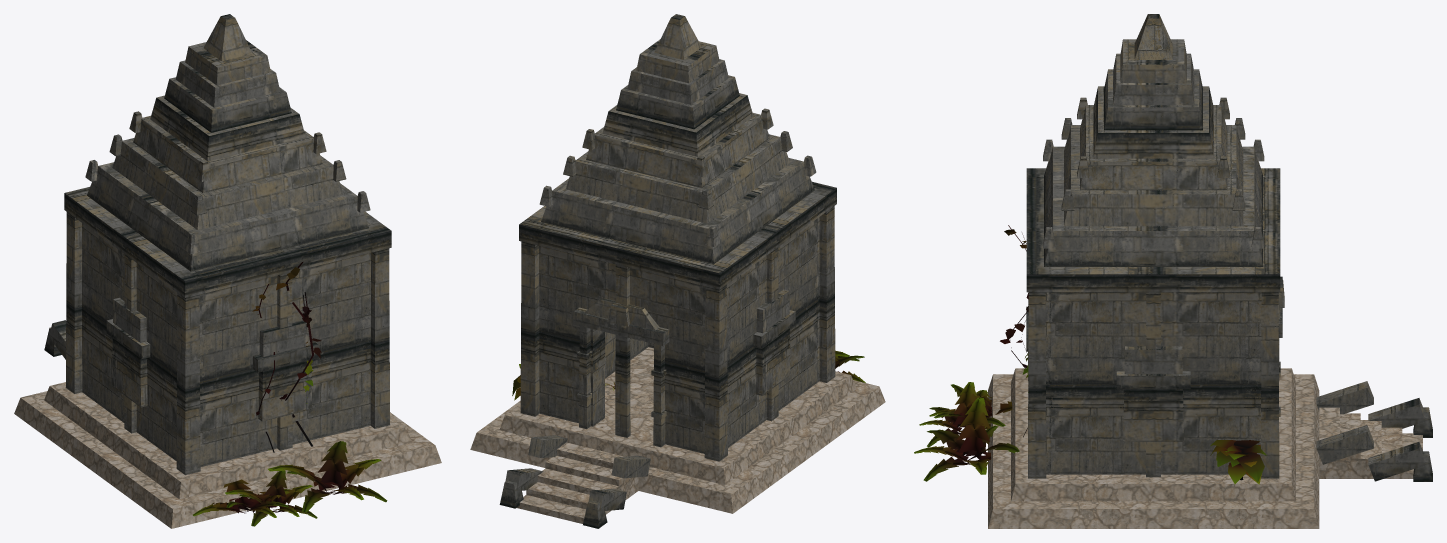
The model's file is prasat_intact_01.glb.
3 renders of one model, left to right at view 1: azimuth 30°, elevation 25°; view 2: azimuth 150°, elevation 25°; view 3: azimuth 270°, elevation 25°, orthographic. The views are drawn at different scales.
Visible parts, largest first — view 1: prasat_intact_01, prasat_intact_01_veg_04_fern_a, prasat_intact_01_veg_05_fern_a, prasat_intact_01_veg_06_fern_b, prasat_intact_01_veg_01_trunk_vine_a; view 2: prasat_intact_01; view 3: prasat_intact_01, prasat_intact_01_veg_04_fern_a, prasat_intact_01_veg_08_bush_a, prasat_intact_01_veg_05_fern_a, prasat_intact_01_veg_06_fern_b.
Boxes of the visible parts, x1=… form: prasat_intact_01: x1=14, y1=14, x2=441, y2=528; prasat_intact_01_veg_04_fern_a: x1=268, y1=441, x2=387, y2=512; prasat_intact_01_veg_05_fern_a: x1=225, y1=471, x2=317, y2=526; prasat_intact_01_veg_06_fern_b: x1=193, y1=479, x2=290, y2=517; prasat_intact_01_veg_01_trunk_vine_a: x1=276, y1=262, x2=321, y2=446; prasat_intact_01: x1=470, y1=14, x2=885, y2=528; prasat_intact_01: x1=988, y1=14, x2=1432, y2=528; prasat_intact_01_veg_04_fern_a: x1=914, y1=397, x2=1019, y2=481; prasat_intact_01_veg_08_bush_a: x1=1210, y1=440, x2=1266, y2=484; prasat_intact_01_veg_05_fern_a: x1=919, y1=382, x2=1005, y2=447; prasat_intact_01_veg_06_fern_b: x1=929, y1=384, x2=1012, y2=427.
Size of the model in its own units: 5.69 by 8.47 by 8.98.
Materials: 10 (10 with a texture image).
